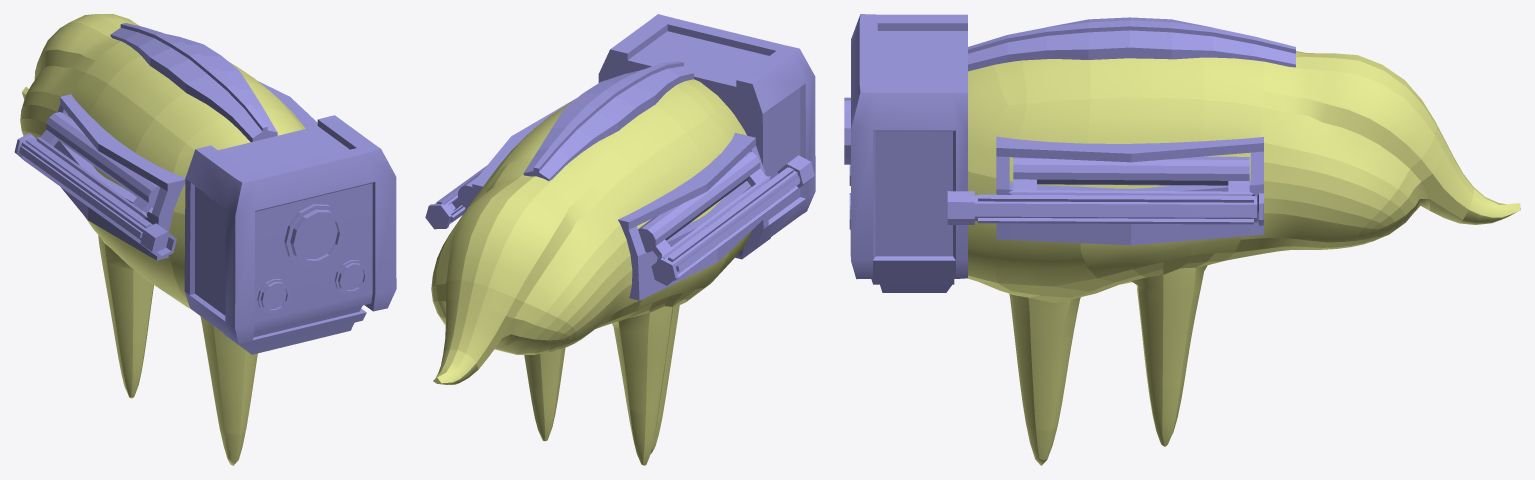
Rendered from Alien_001.fbx.
3 renders of one model, left to right at view 1: azimuth 30°, elevation 25°; view 2: azimuth 150°, elevation 25°; view 3: azimuth 270°, elevation 25°, orthographic. The views are drawn at different scales.
Visible parts, largest first — view 1: Cabeza, Cuerpo, Spina_001, Alas_001, Torreta_002, Engrane_002, Camara_001, Camara_002, Camara_003; view 2: Cuerpo, Cabeza, Spina_001, Alas_001, Torreta_002, Engrane_002, Torreta_001, Engrane_001; view 3: Cuerpo, Cabeza, Alas_001, Spina_001, Torreta_001, Engrane_001.
Boxes of the visible parts, <box> form: Cabeza: <box>184,115,396,354</box>; Cuerpo: <box>20,14,305,465</box>; Spina_001: <box>110,23,277,142</box>; Alas_001: <box>54,81,317,260</box>; Torreta_002: <box>14,133,176,259</box>; Engrane_002: <box>36,112,160,217</box>; Camara_001: <box>284,204,344,266</box>; Camara_002: <box>334,260,367,294</box>; Camara_003: <box>257,279,290,312</box>; Cuerpo: <box>431,79,752,465</box>; Cabeza: <box>598,14,815,259</box>; Spina_001: <box>523,61,693,180</box>; Alas_001: <box>463,98,766,300</box>; Torreta_002: <box>651,155,814,285</box>; Engrane_002: <box>638,151,770,261</box>; Torreta_001: <box>425,165,486,229</box>; Engrane_001: <box>448,171,482,211</box>; Cuerpo: <box>967,51,1520,465</box>; Cabeza: <box>850,14,967,292</box>; Alas_001: <box>996,136,1263,245</box>; Spina_001: <box>968,17,1295,71</box>; Torreta_001: <box>947,191,1263,225</box>; Engrane_001: <box>1008,156,1254,195</box>.
Bounding box in the file's own units: 9.46 × 14.14 × 19.58.
